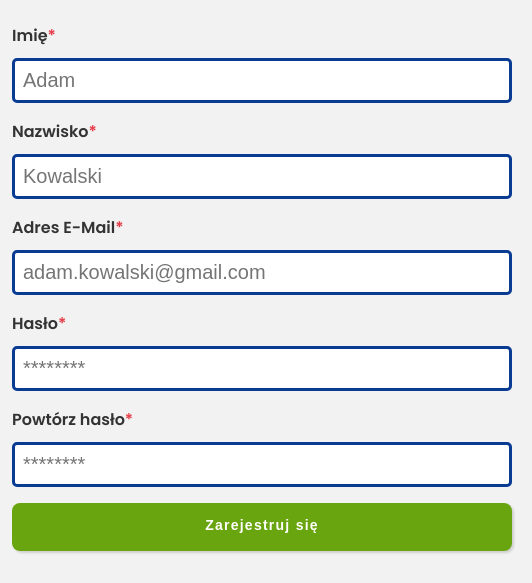
it: Unit tests for Registration Form Component › should render error message when password is too short
Step 1. Type "John" into the field labelled "Imię" → (262, 80), box left=12, top=58, right=512, bottom=103
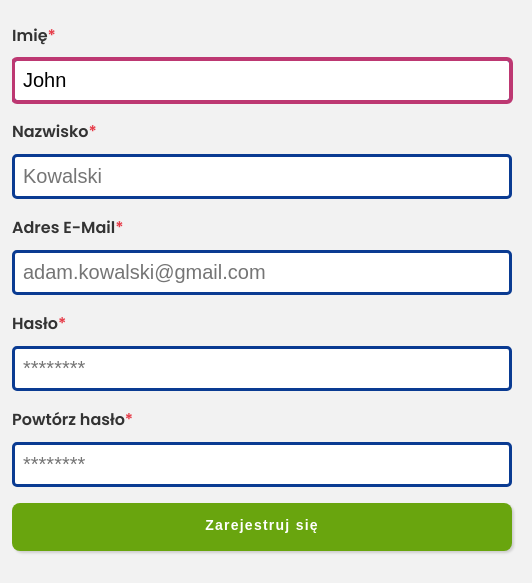
Step 2. Type "Doe" into the field labelled "Nazwisko" → (262, 176), box left=12, top=154, right=512, bottom=199
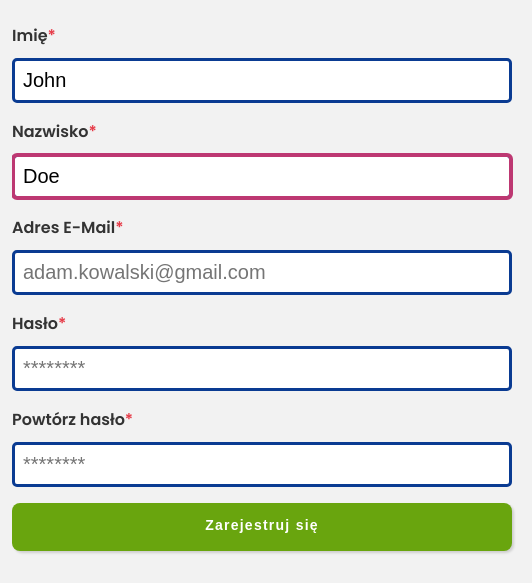
Step 3. Type "joe-doe@gmail.com" into the field labelled "Adres E-Mail" → (262, 272), box left=12, top=250, right=512, bottom=295
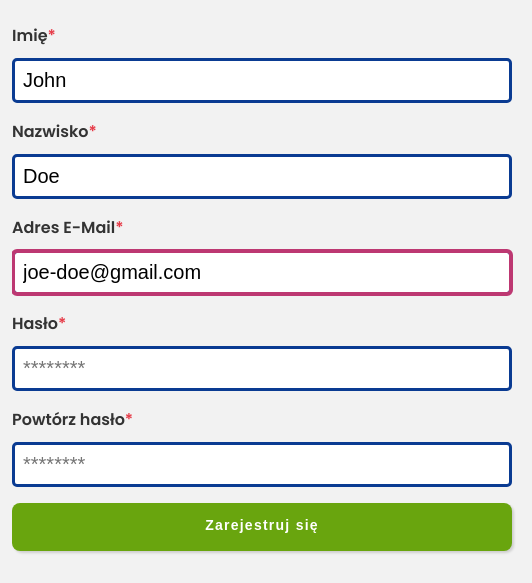
Step 4. Type "Short!" into the password field labelled "Hasło" → (262, 368), box left=12, top=346, right=512, bottom=391
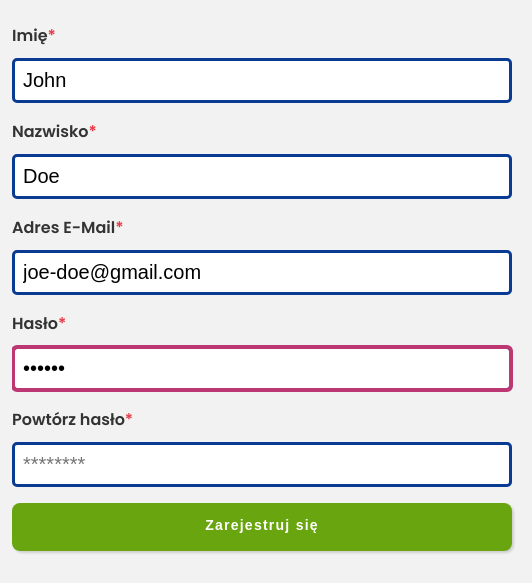
Step 5. Type "Short!" into the password field labelled "Powtórz hasło" → (262, 464), box left=12, top=442, right=512, bottom=487
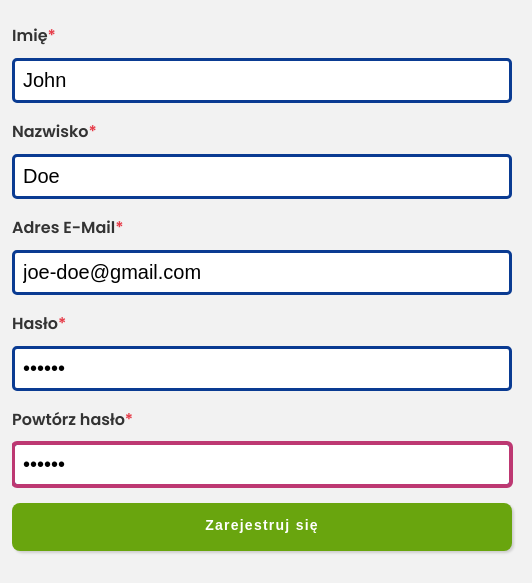
Step 6. Click the button → click(262, 527), box left=12, top=503, right=512, bottom=551
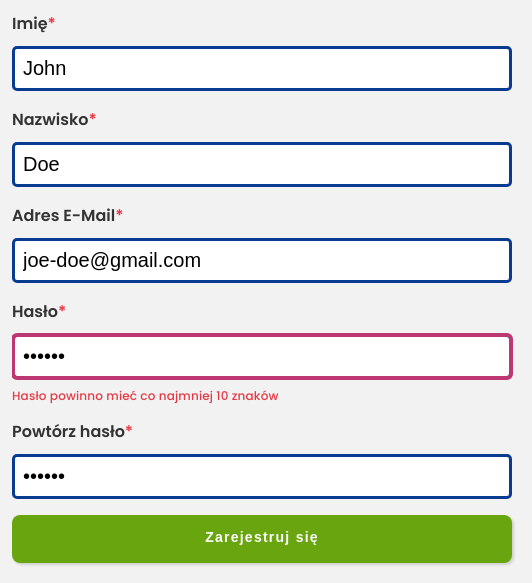
Expected: the heading "Hasło powinno mieć co najmniej 10 znaków" is shown, left=12, top=389, right=278, bottom=403
